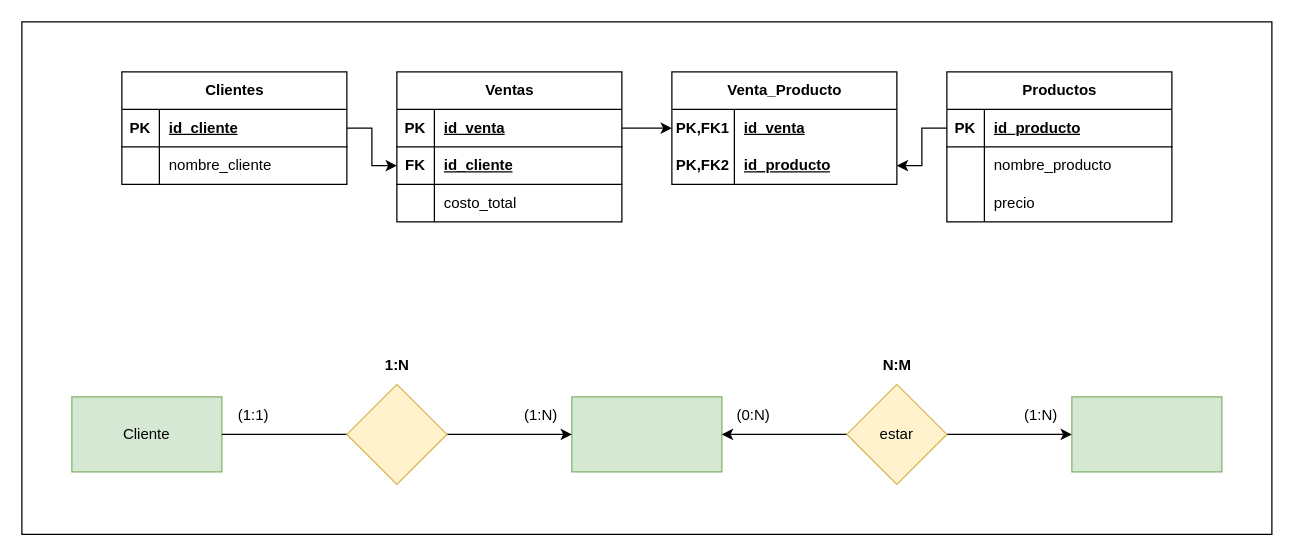
This 1294x556 diagram has some shape labels left out. Each missing label, with the centre of its shape:
pagar: the point at 396,433
Producto: the point at 1146,434
Venta: the point at 646,434
